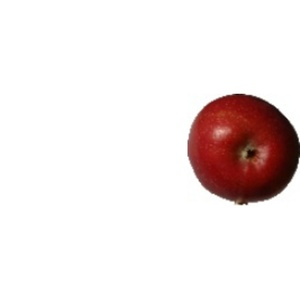maçã braeburn: (185, 92, 299, 198)
